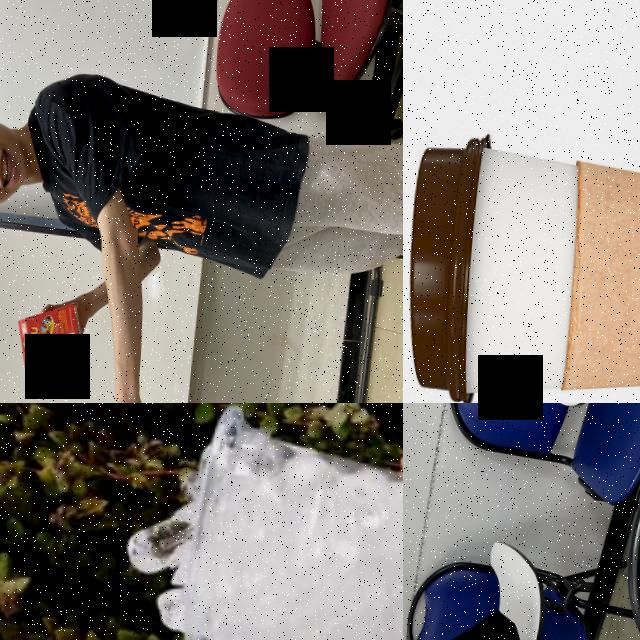cup: (403, 127, 640, 403), (182, 403, 403, 640)
